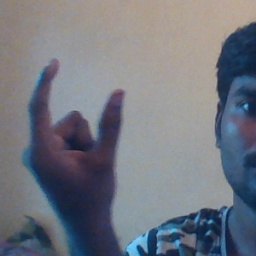U: (19, 55, 130, 207)
